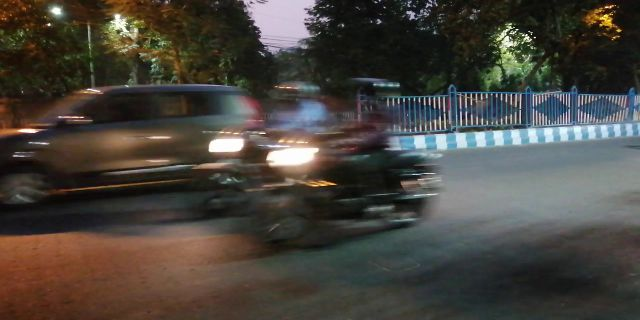Car: (12, 78, 256, 210)
Motorbike: (273, 80, 437, 253)
